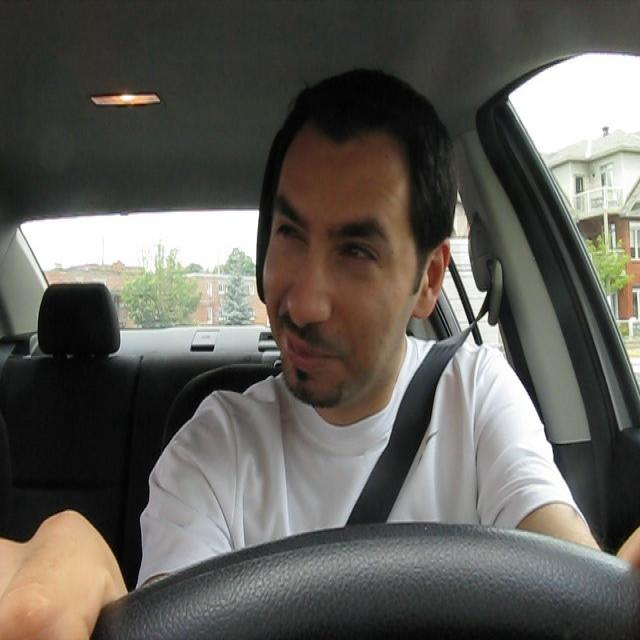Eyeclosed: (277, 218, 308, 257)
Eyeopen: (338, 234, 376, 277)
